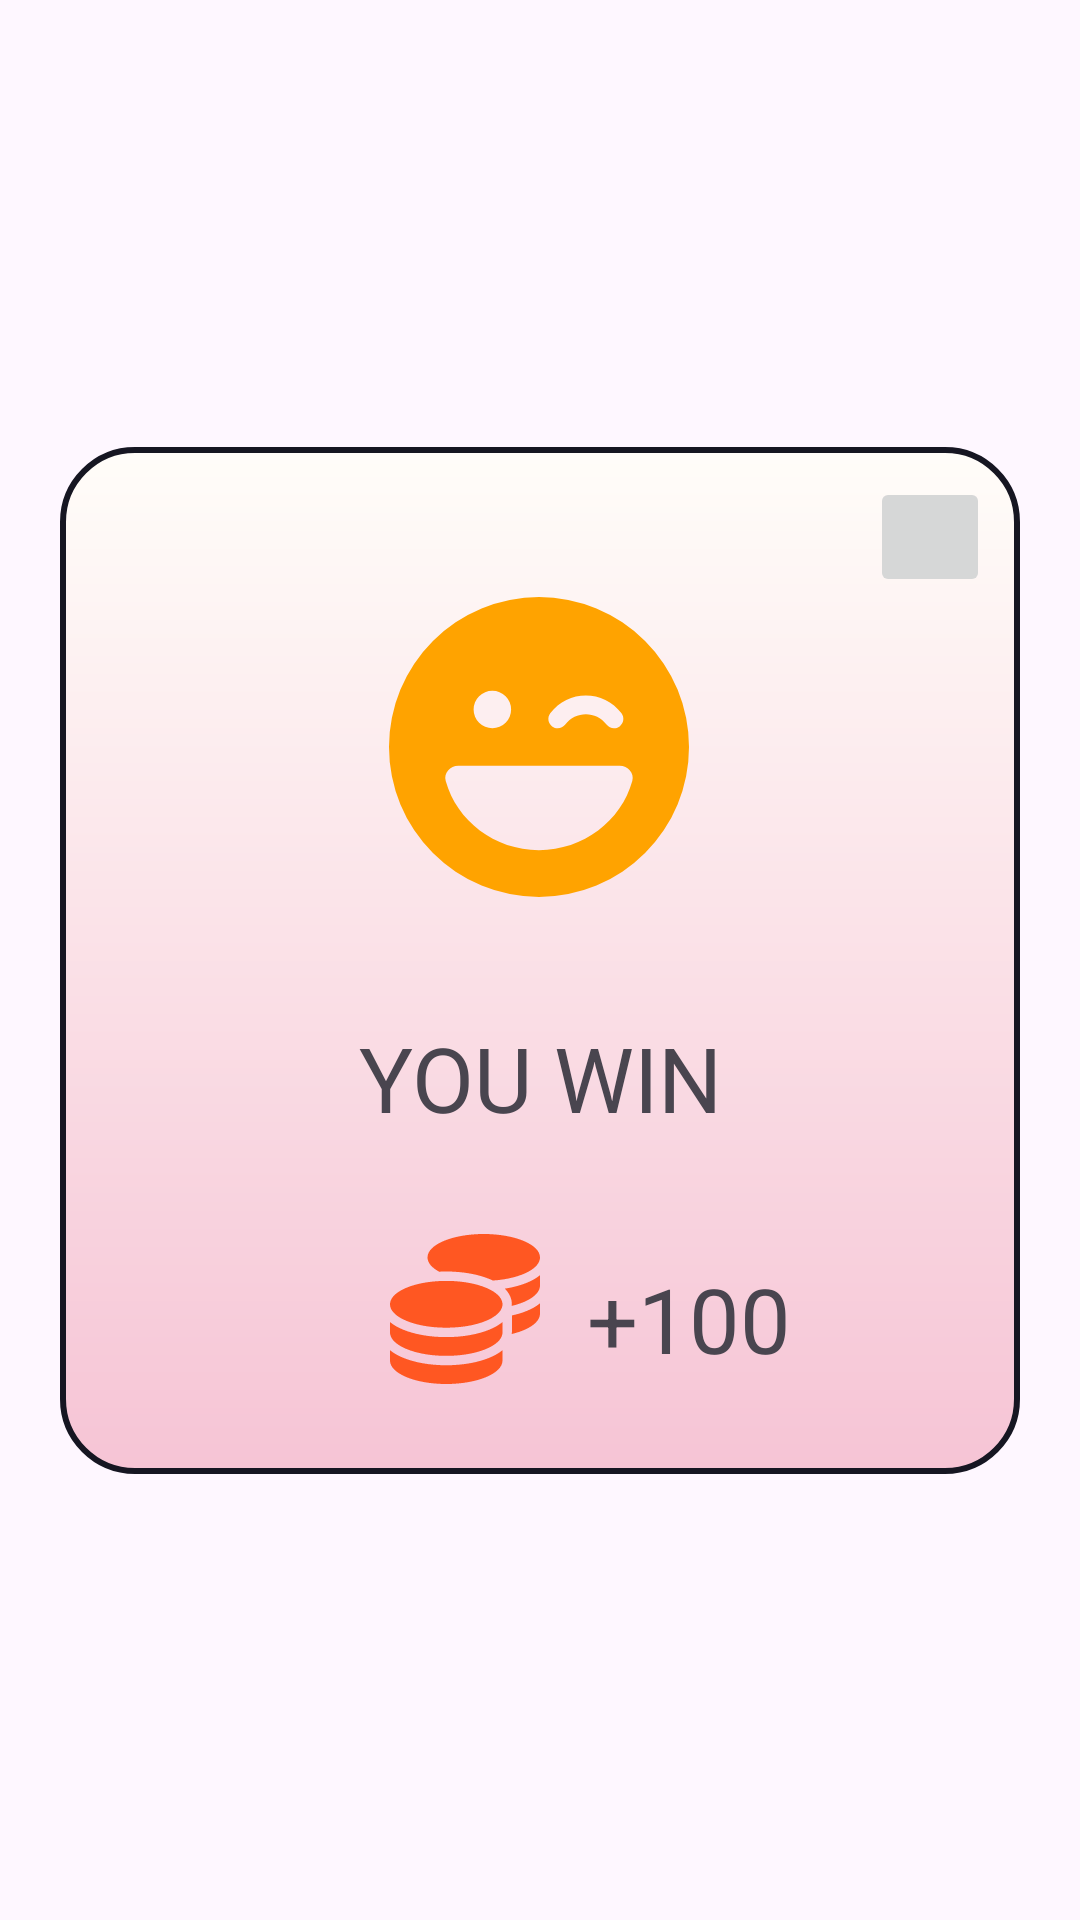

Named icons in this screenshot (1080w x 1920h) and their bounding boxes, (x1,y1,x2,y2):
coins: (390,1234,540,1384)
face laugh wink: (389,597,689,897)
